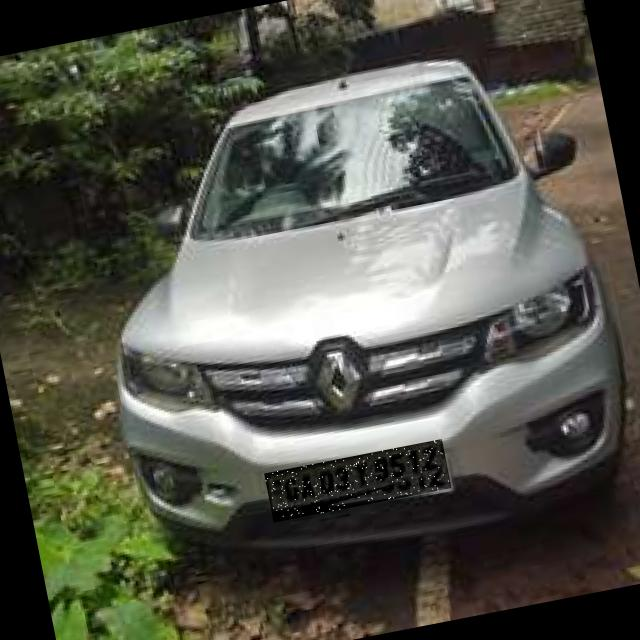Plate: (266, 440, 453, 524)
